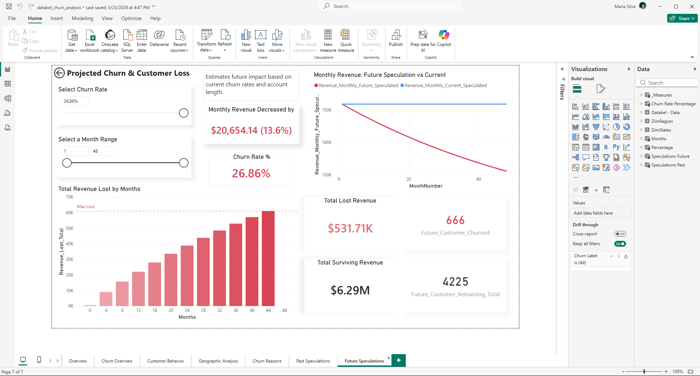

The dashboard page shown, as its layout file describes it:
{"tool":"powerbi","page":{"name":"Future Speculations","canvas":[1280,720],"ordinal":9},"visuals":[{"type":"card","fields":{"Values":["Avg(Databel - Data.Account Length (in months))"]},"box":[9.5,535.7,332.4,184.2],"z":1},{"type":"actionButton","box":[0,0,100,40],"z":2},{"type":"columnChart","fields":{"Category":["Months.MonthNumber"],"Y":["Months.LostFutureRevenue"]},"box":[0,0,733.7,424.5],"z":3},{"type":"cardVisual","fields":{"Data":["Databel - Data.CumulativeLostFutureRevenue"]},"box":[320.8,551.6,328.2,168.3],"z":4},{"type":"card","fields":{"Values":["Sum(Months.Customers lost)"]},"box":[9.8,437.7,277.9,145.1],"z":5},{"type":"slicer","fields":{"Values":["Months.MonthNumber"]},"box":[852.3,0,427.7,108],"z":6},{"type":"card","fields":{"Values":["Sum(Months.Customers Remaining)"]},"box":[320.8,424.5,285.9,152.5],"z":7},{"type":"tableEx","fields":{"Values":["Months.MonthNumber","Months.LostFutureRevenue","Databel - Data.CumulativeLostFutureRevenue","Sum(Months.Surviving Revenue)"]},"box":[733.7,156.7,525.1,563.2],"z":8}]}

Visuals, with their boxes on the page's 1280x720 design canvas (x1, y1, x2, y2). These are canvas units, not pixel positions in the 700x376 screenshot, which may show the page scaled, cropped or inside an application window:
card - Avg(Databel - Data.Account Length (in months)): left=10, top=536, right=342, bottom=720
actionButton: left=0, top=0, right=100, bottom=40
columnChart - Months.MonthNumber x Months.LostFutureRevenue: left=0, top=0, right=734, bottom=424
cardVisual - Databel - Data.CumulativeLostFutureRevenue: left=321, top=552, right=649, bottom=720
card - Sum(Months.Customers lost): left=10, top=438, right=288, bottom=583
slicer - Months.MonthNumber: left=852, top=0, right=1280, bottom=108
card - Sum(Months.Customers Remaining): left=321, top=424, right=607, bottom=577
tableEx - Months.MonthNumber x Months.LostFutureRevenue: left=734, top=157, right=1259, bottom=720
